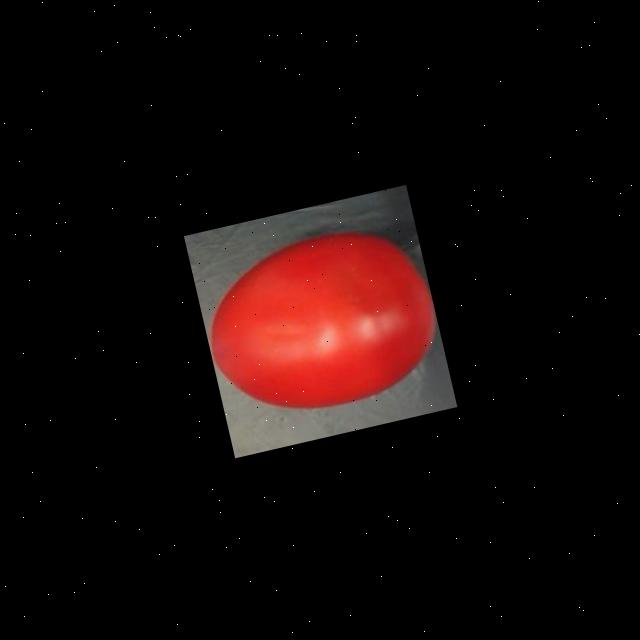tomato: (189, 207, 450, 432)
